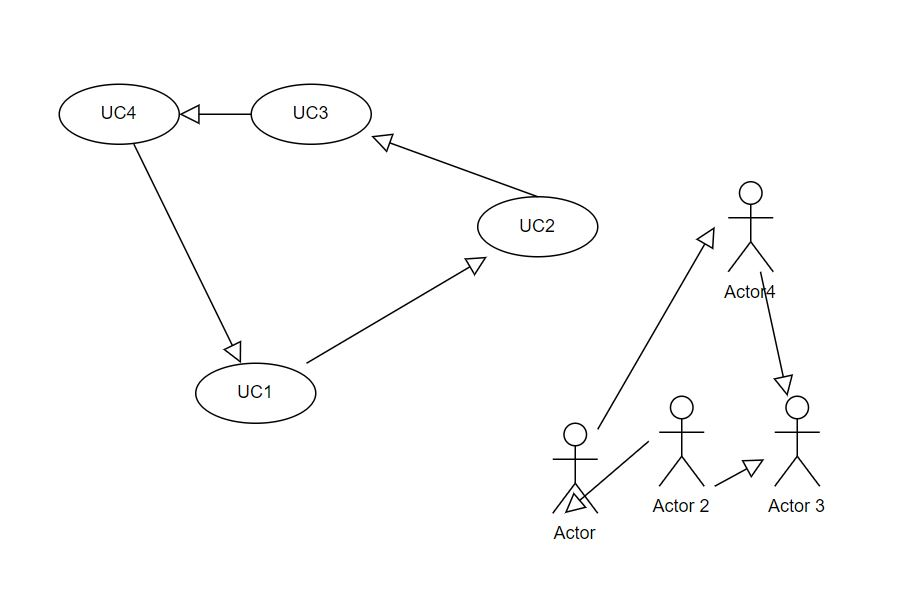actor: (727, 180, 775, 273), (772, 396, 820, 489), (551, 421, 596, 515), (662, 395, 706, 488)
generalization: (595, 226, 717, 431), (132, 143, 241, 362), (307, 255, 486, 364), (369, 133, 544, 198), (565, 441, 649, 510), (758, 272, 791, 395), (181, 104, 251, 125), (713, 459, 763, 488)
text: (762, 496, 828, 518), (547, 523, 600, 547), (650, 498, 711, 516), (233, 379, 276, 404), (514, 215, 559, 236), (291, 101, 332, 124), (90, 101, 139, 120), (724, 284, 775, 300)
use_case: (56, 83, 181, 146), (250, 83, 371, 146), (478, 198, 600, 258), (196, 362, 316, 423)
